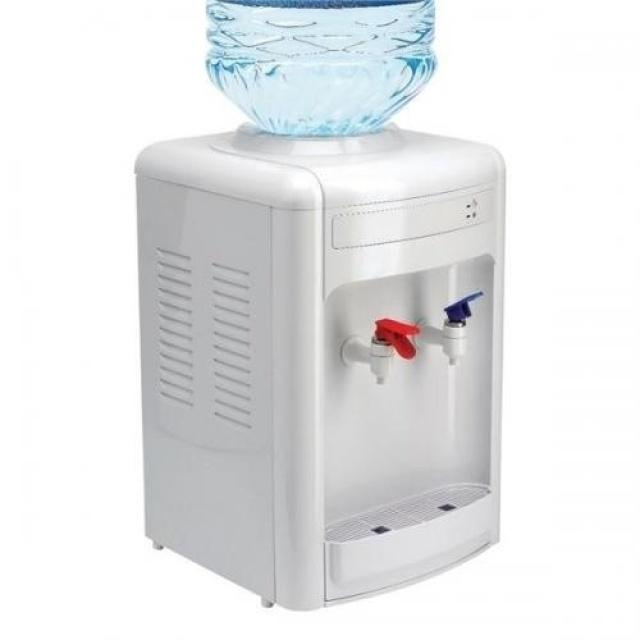Dispenser: (133, 0, 505, 611)
